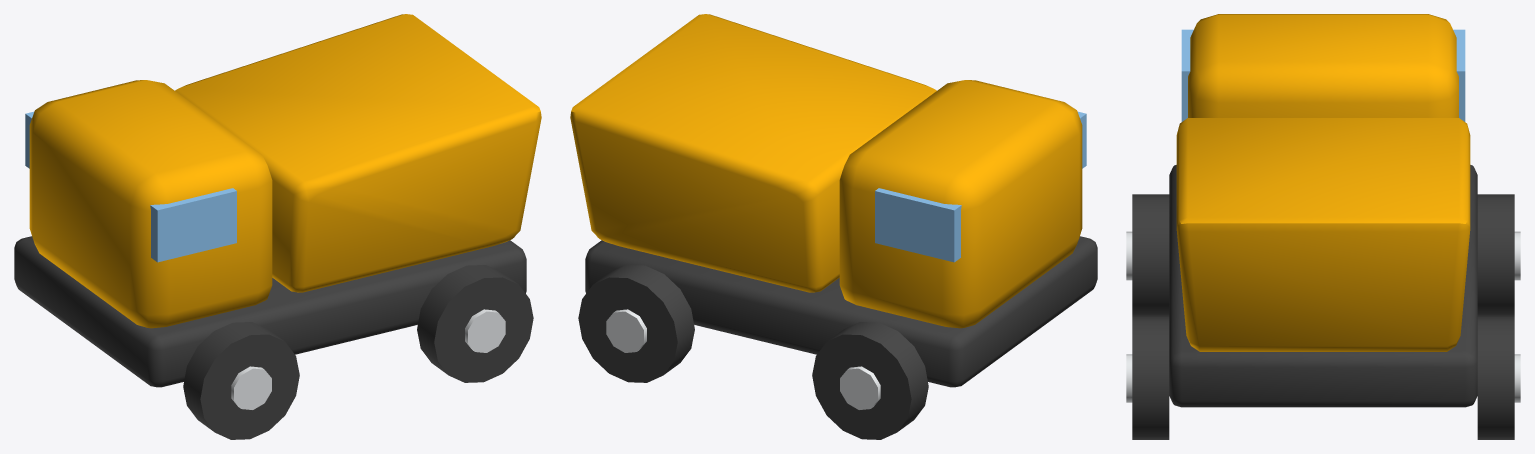
Rendered from toy_truck.fbx.
3 renders of one model, left to right at view 1: azimuth 30°, elevation 25°; view 2: azimuth 150°, elevation 25°; view 3: azimuth 270°, elevation 25°, orthographic. The views are drawn at different scales.
Parts seen in each view (by area): view 1: Toy Dump Truck; view 2: Toy Dump Truck; view 3: Toy Dump Truck.
Part boxes in pixels (x1,y1,x2,y2): Toy Dump Truck: [14, 14, 541, 439]; Toy Dump Truck: [570, 14, 1097, 439]; Toy Dump Truck: [1126, 14, 1520, 439].
Bounding box in the file's own units: 0.797 × 0.48 × 0.64.
